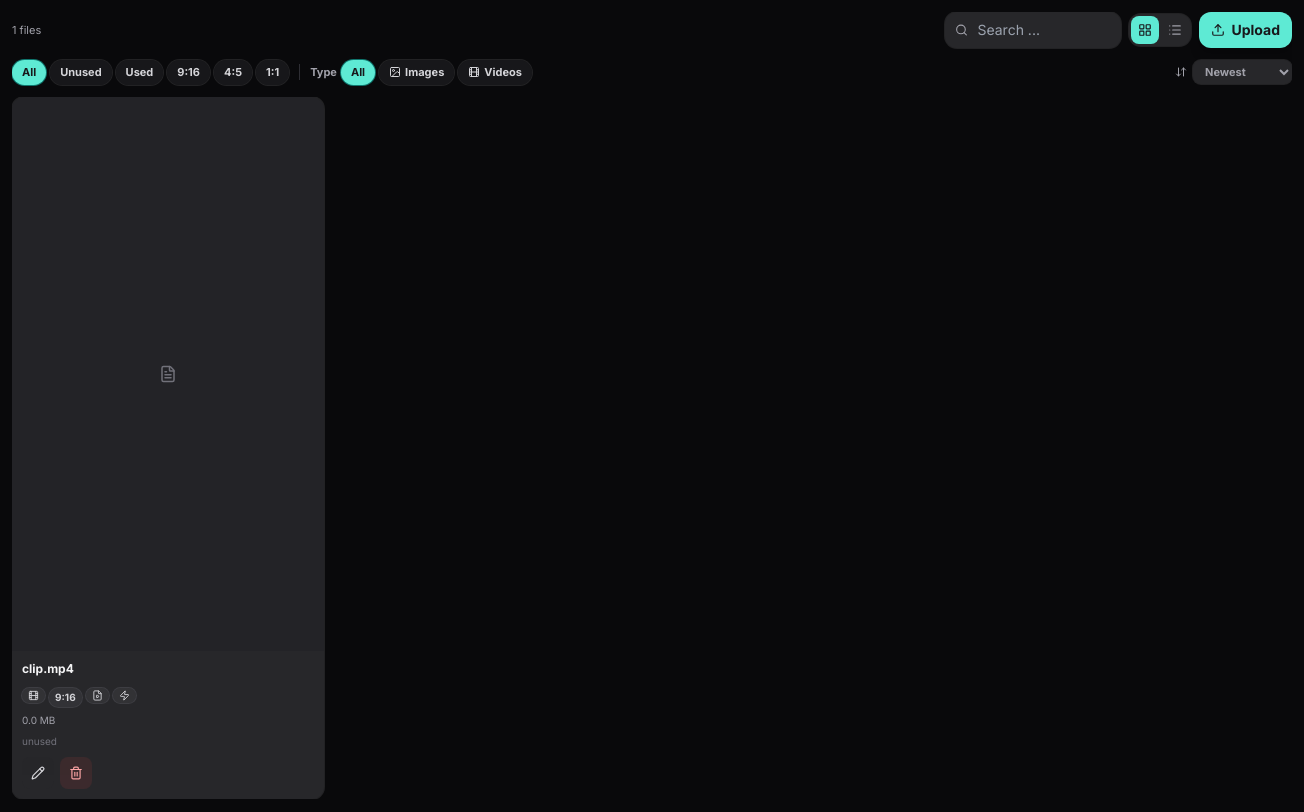
Test: Assets empty states (A6) › shows the existing no-match state when a filter yields zero of N>0 assets
The width and height of the screenshot is (1304, 812).
Type "zzzznomatch" into the field with placeholder "Search ..." at (1034, 30), box [946,12,1122,48]
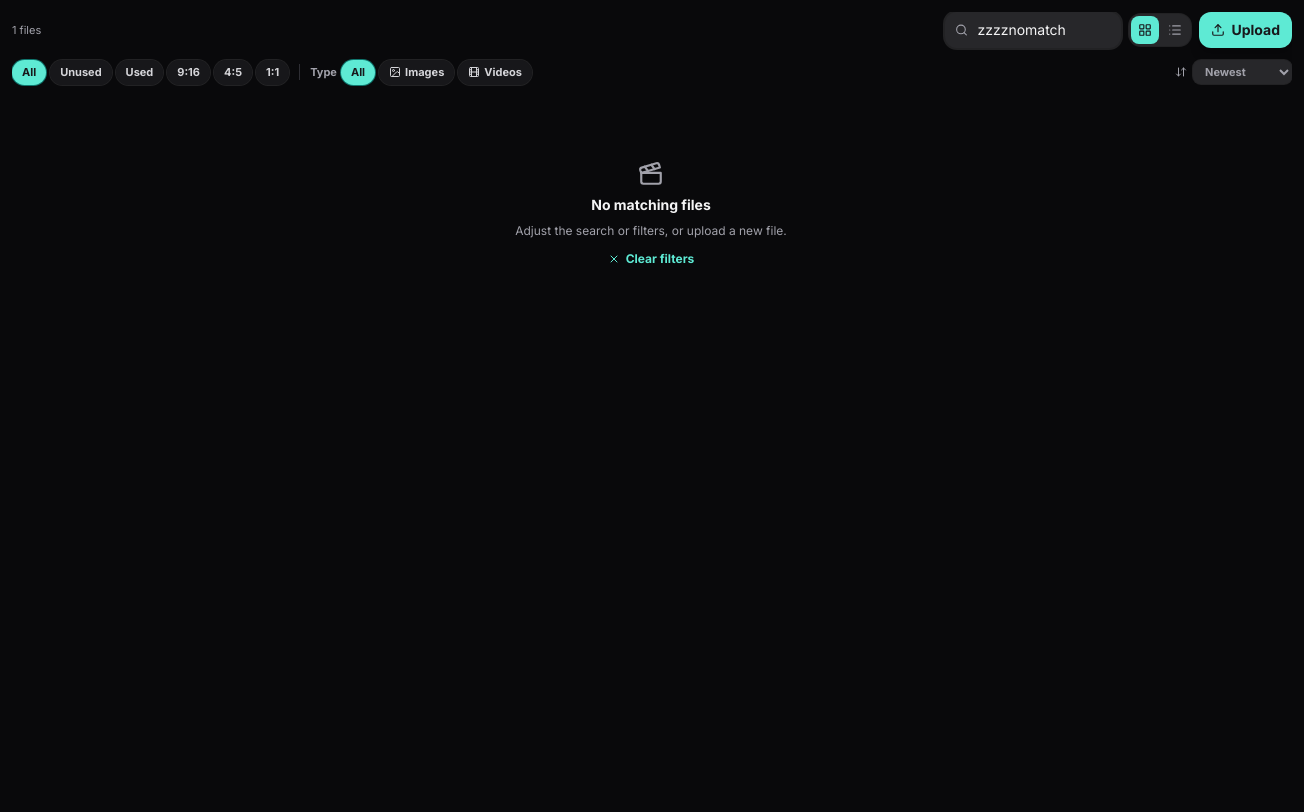
Result: the text "No matching files" is shown at [591,196,711,212]
